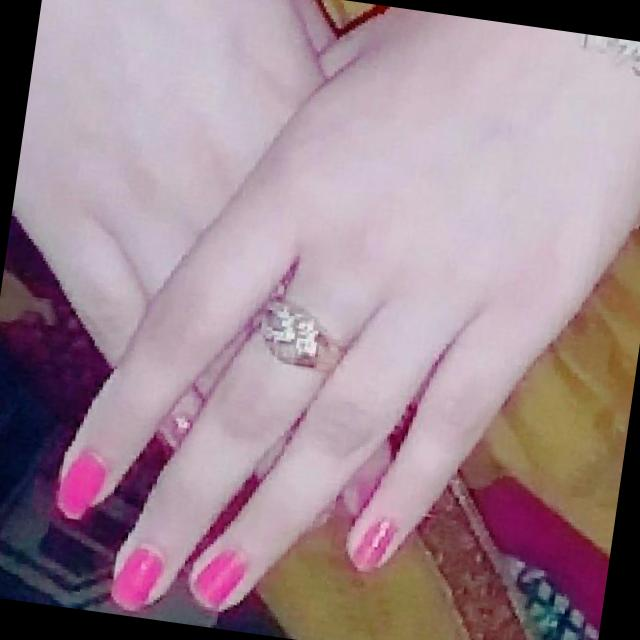Nail: (57, 452, 108, 519), (111, 547, 163, 610), (195, 551, 246, 609), (351, 519, 395, 571)
